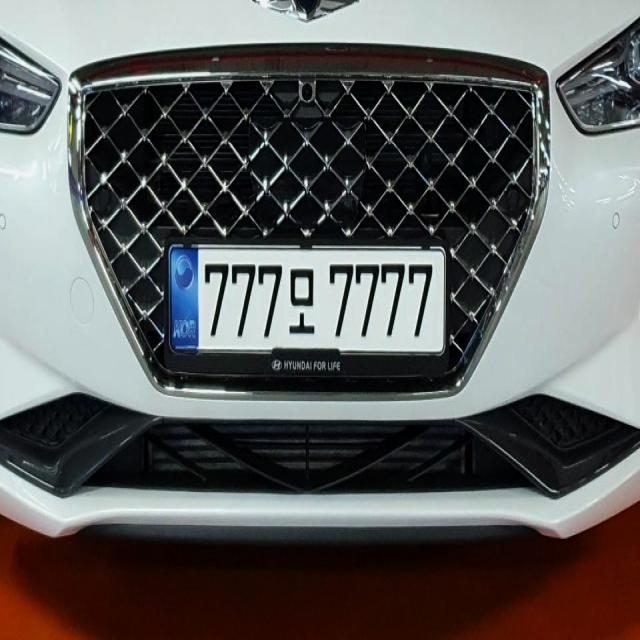illegal_plate: (164, 234, 452, 390)
